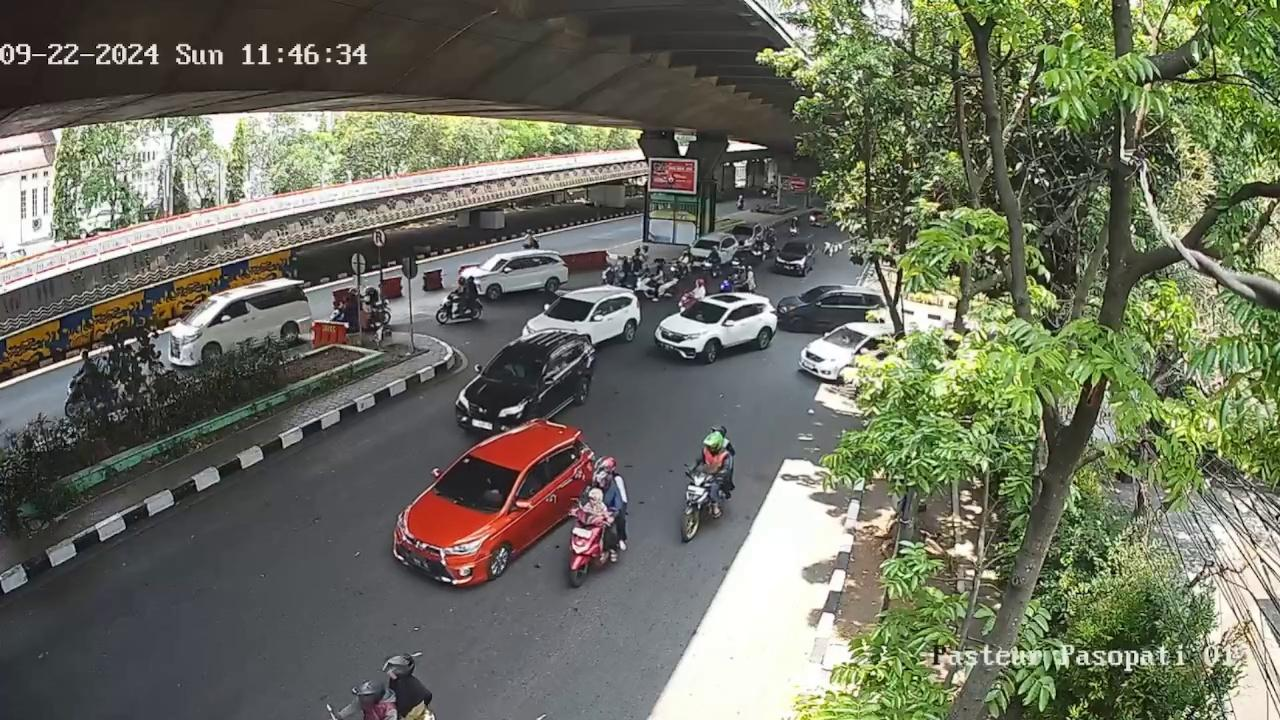pakai: (505, 356, 526, 382)
windshield: (437, 452, 522, 510), (484, 346, 549, 388), (544, 298, 593, 324), (682, 299, 726, 323)
